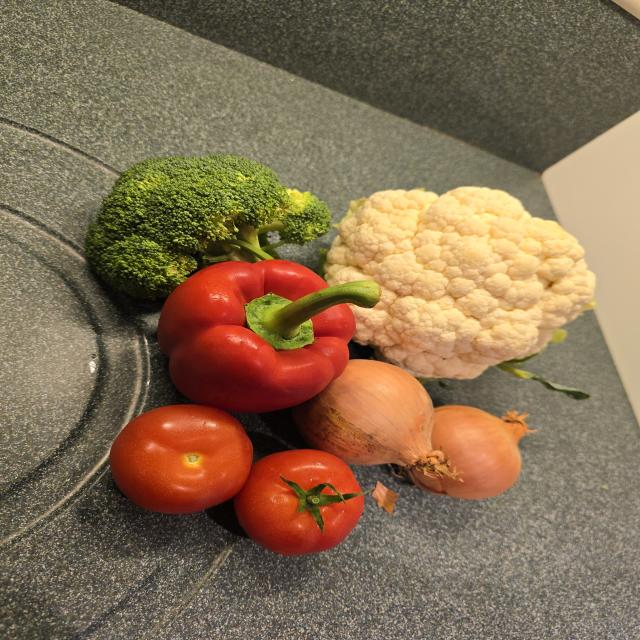Bell Pepper: (158, 260, 382, 412)
Broccoli: (85, 154, 331, 297)
Cauliflower: (325, 187, 595, 379)
Onion: (293, 360, 441, 470), (418, 406, 536, 499)
Tomato: (110, 405, 253, 514), (233, 449, 364, 555)
